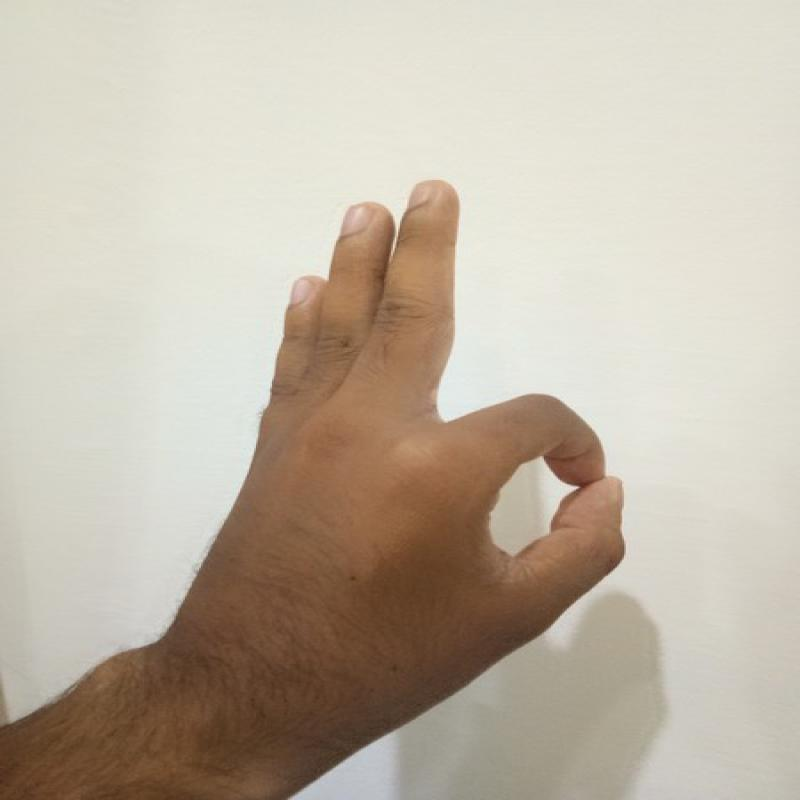Mudraakhyam: (131, 139, 646, 750)
